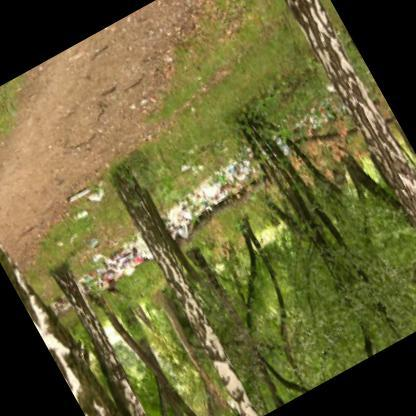Garbage: (157, 156, 276, 250), (72, 236, 160, 312), (61, 171, 113, 214), (111, 238, 143, 273), (163, 196, 197, 228), (220, 162, 247, 194), (199, 172, 228, 200), (66, 196, 94, 224), (198, 180, 226, 206), (101, 248, 125, 273), (305, 106, 330, 130), (228, 153, 251, 176), (170, 219, 192, 240), (119, 254, 138, 274), (83, 234, 102, 252), (98, 273, 113, 291), (200, 198, 216, 214)
